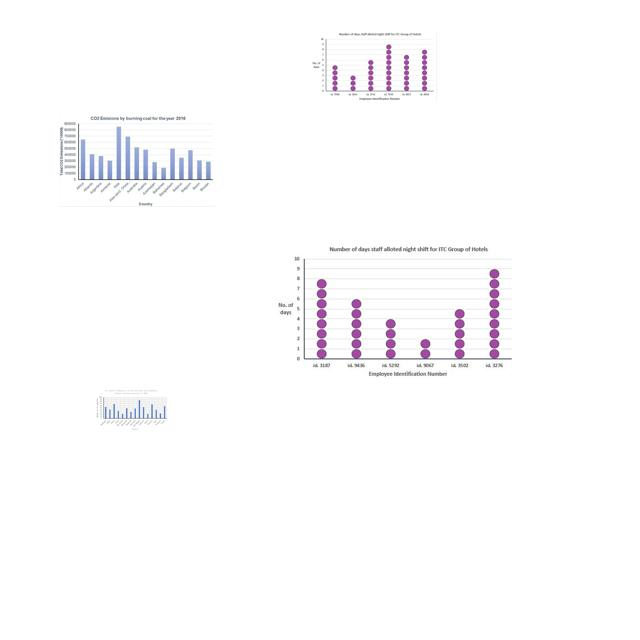Graph: (270, 243, 517, 382), (59, 114, 215, 207), (309, 31, 437, 102), (94, 388, 168, 432)
